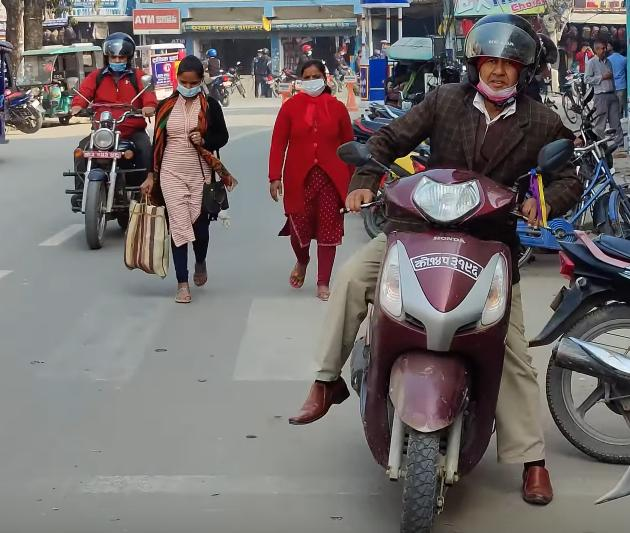bike: (60, 75, 160, 254)
scooter: (308, 128, 580, 533)
